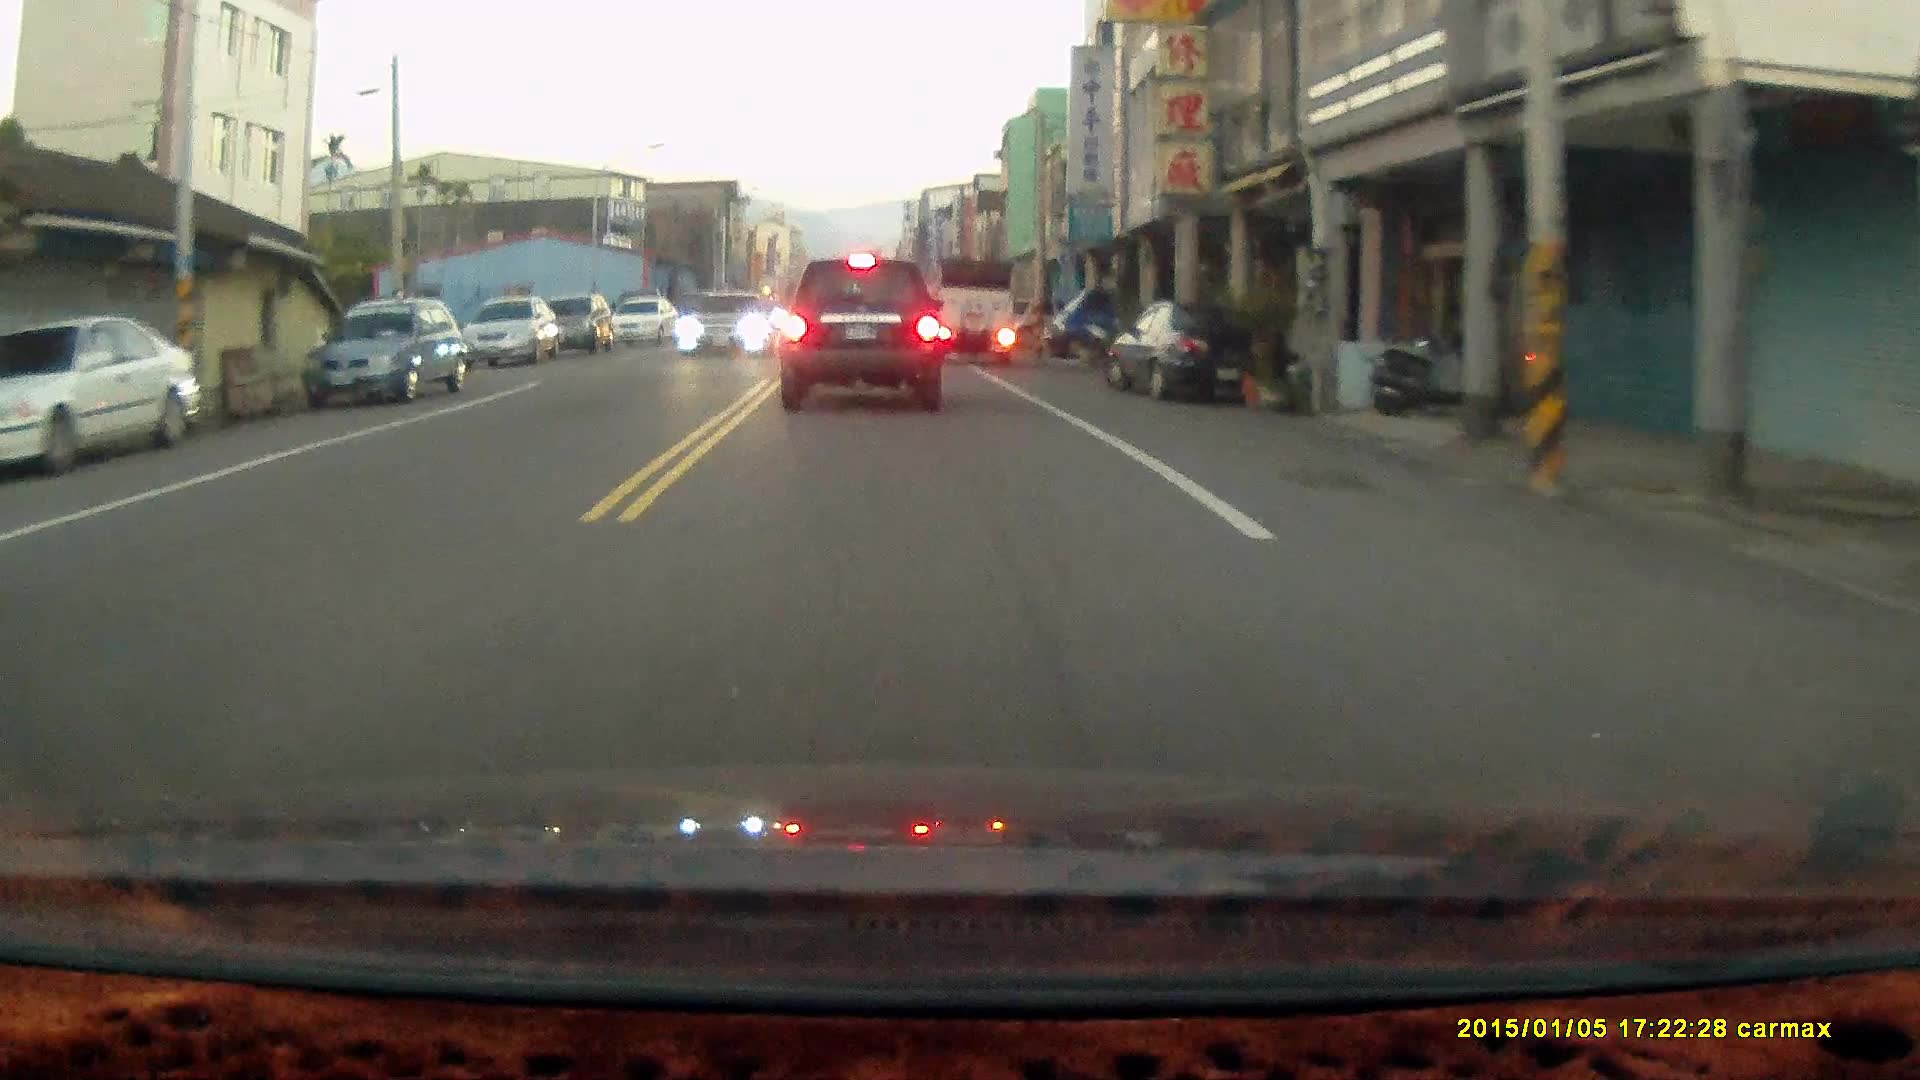vehicle: (1, 318, 203, 480), (779, 258, 944, 415), (1101, 301, 1280, 402), (305, 297, 469, 406), (1044, 280, 1184, 371), (932, 258, 1019, 372), (673, 291, 775, 361), (465, 297, 556, 372), (534, 293, 615, 356), (611, 295, 680, 347)
